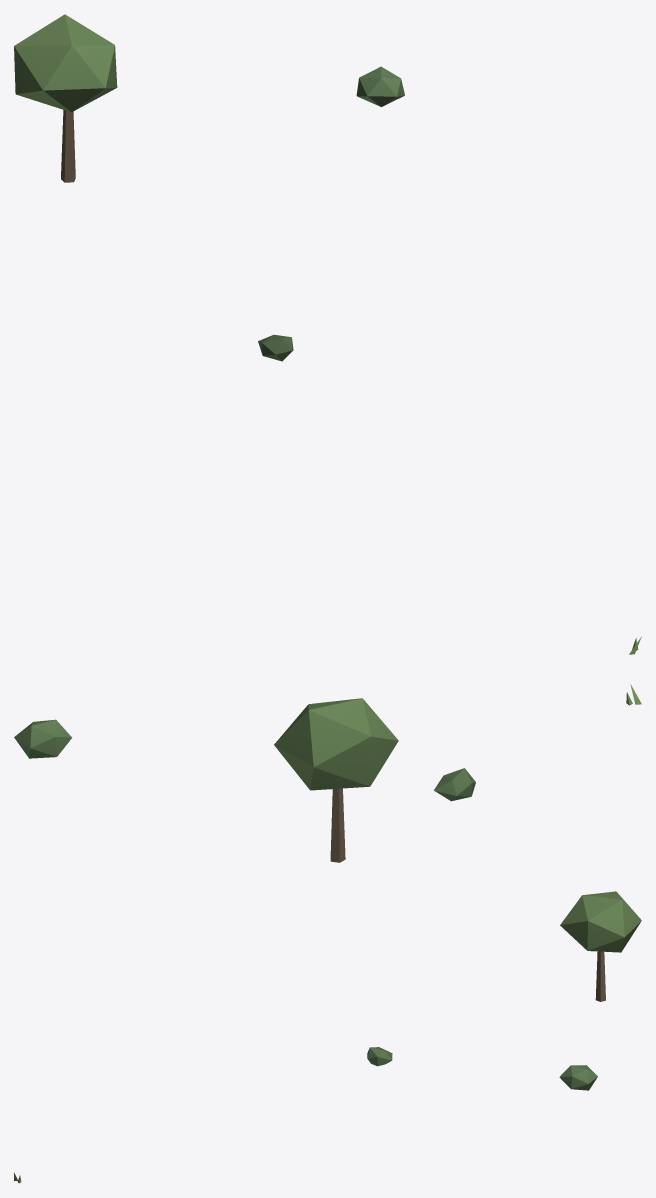
Rendered from arch_land_scatter_c22_19_lod1.glb.
3 views of the same model, one above another, from view 1: azimuth 30°, elevation 25°; view 2: azimuth 150°, elevation 25°; view 3: azimuth 270°, elevation 25° (orthographic). The views are drawn at different scales.
Visible parts, largest first — view 1: arch_land_scatter_c22_19_lod1; view 2: arch_land_scatter_c22_19_lod1; view 3: arch_land_scatter_c22_19_lod1.
Part boxes in pixels (left/top/right/bottom): arch_land_scatter_c22_19_lod1: left=14, top=14, right=641, bottom=654; arch_land_scatter_c22_19_lod1: left=14, top=684, right=641, bottom=862; arch_land_scatter_c22_19_lod1: left=14, top=891, right=641, bottom=1183.
Bounding box in the file's own units: 15.03 × 13.79 × 32.86.
